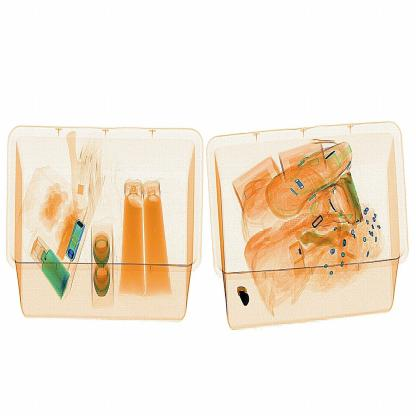wrench: (237, 280, 252, 310)
